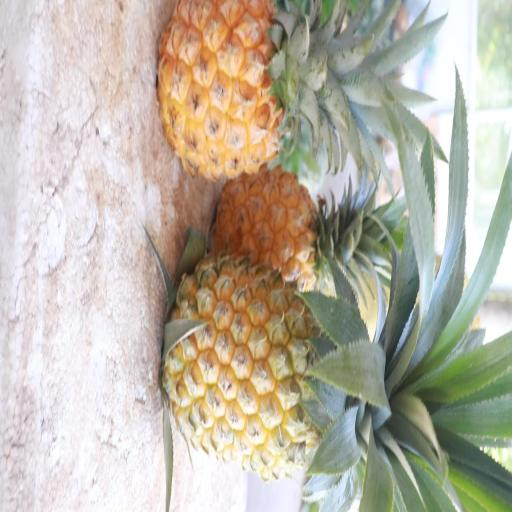Pineapple - v8 v1: (160, 251, 387, 484), (157, 0, 356, 185), (211, 157, 381, 296)
